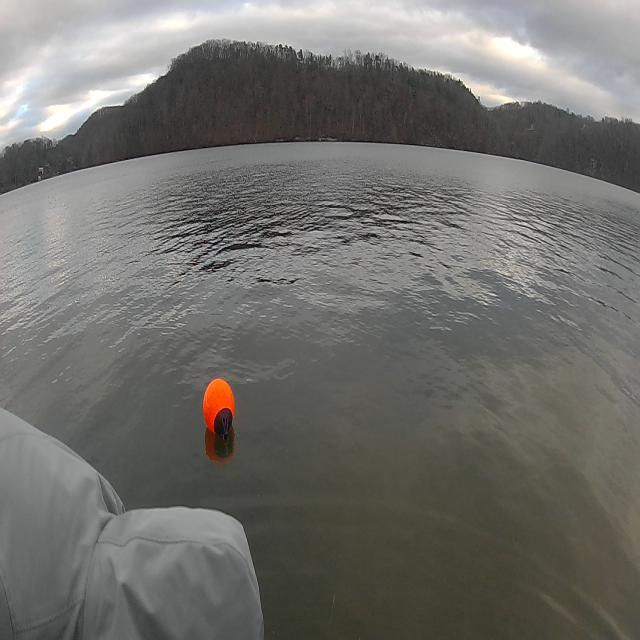Buoy: (197, 363, 243, 455)
